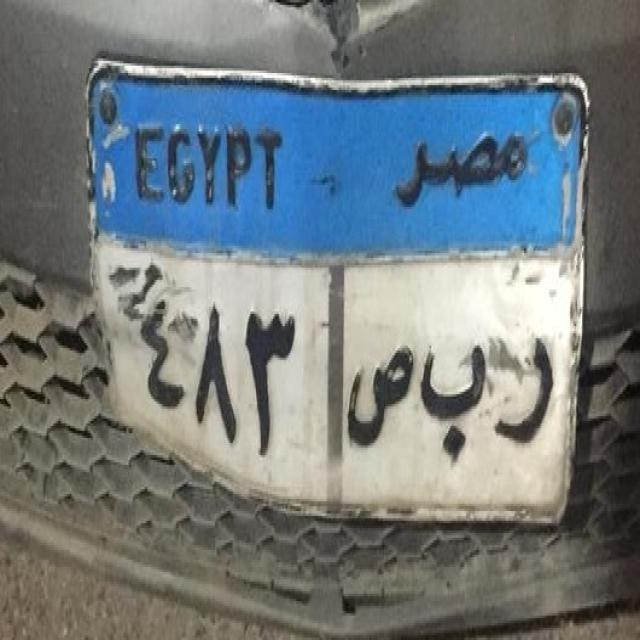3: (244, 297, 302, 472)
4: (134, 282, 191, 425)
8: (189, 292, 242, 462)
R: (491, 326, 559, 462)
Saad: (340, 317, 424, 467)
baa: (417, 322, 490, 469)
